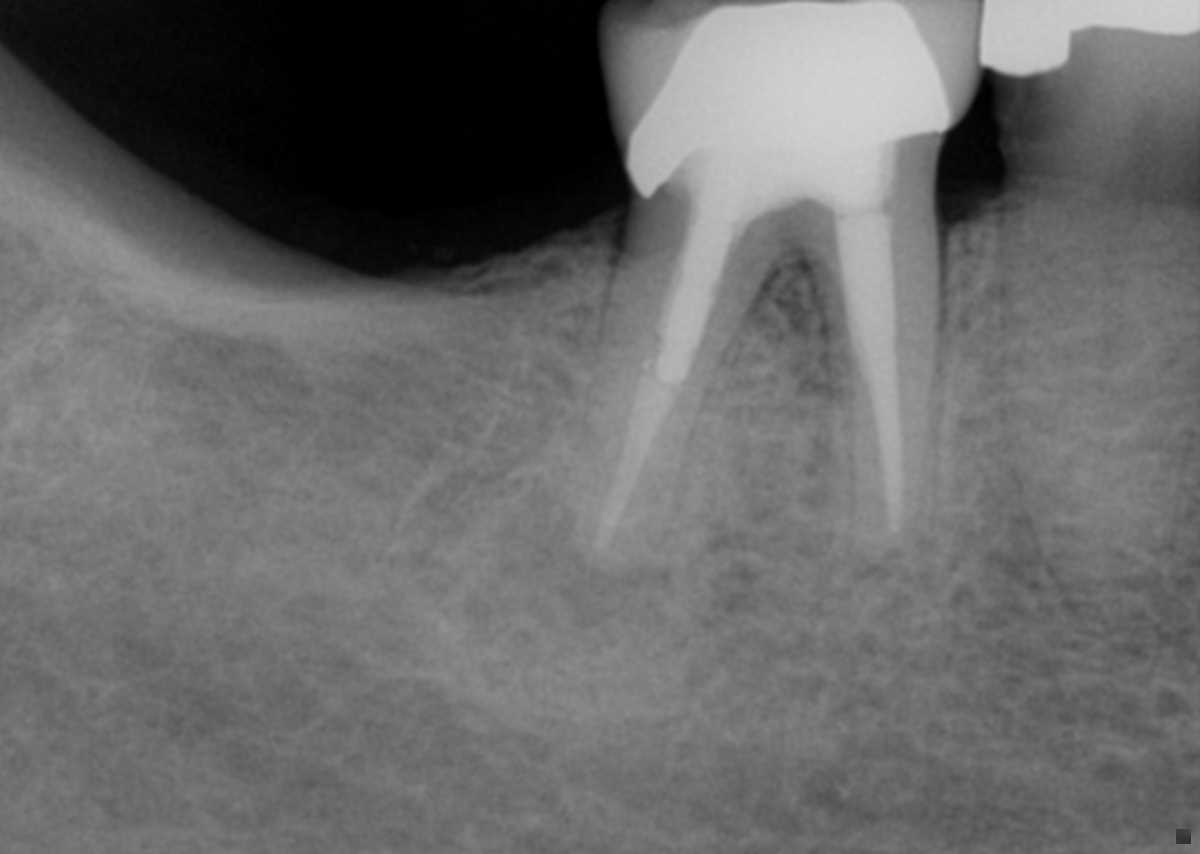Apical Lesion: (521, 497, 654, 624)
Distal Root: (572, 207, 785, 571)
Main Canal: (1098, 187, 1137, 429)
Main Root: (1001, 185, 1200, 626)
Mesial Root: (809, 223, 941, 574)
Root Canal Filling: (837, 228, 903, 545), (594, 369, 679, 559)
decay: (985, 71, 1087, 204)
